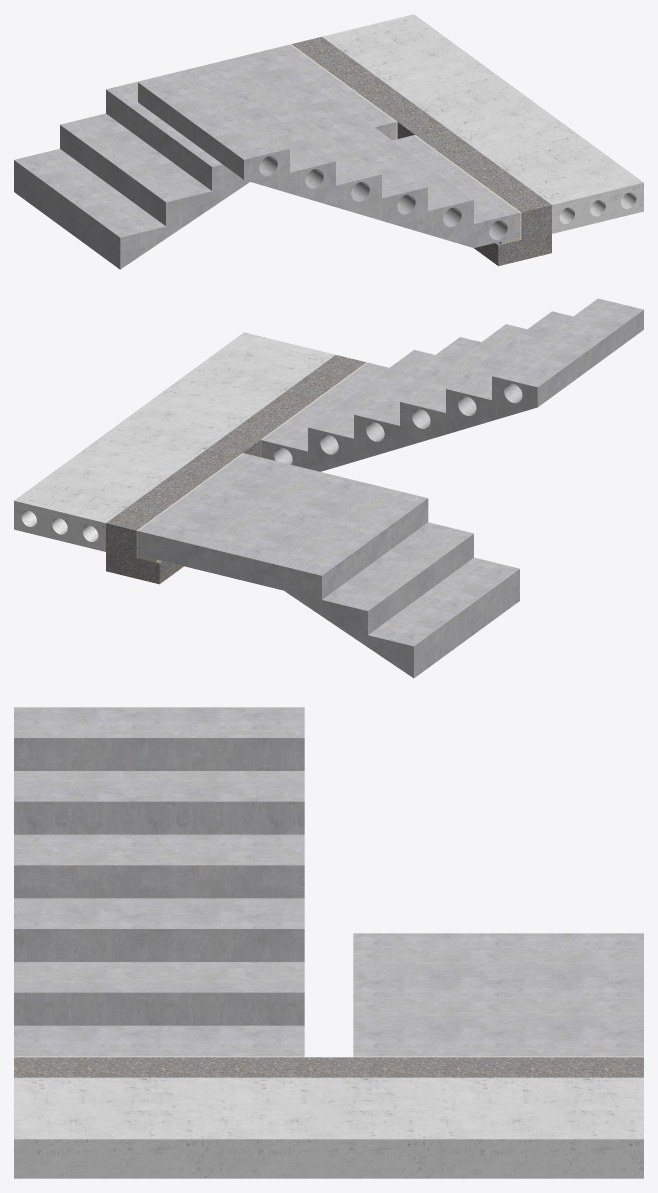
Rendered from stair-flight-offset-multiple-01.glb.
3 views of the same model, one above another, from view 1: azimuth 30°, elevation 25°; view 2: azimuth 150°, elevation 25°; view 3: azimuth 270°, elevation 25° (orthographic). The views are drawn at different scales.
Parts seen in each view (by area): view 1: 梯段, 平台板, 下平台梁-水平挑边L形梁, 无需标注; view 2: 梯段, 平台板, 下平台梁-水平挑边L形梁, 无需标注; view 3: 梯段, 平台板, 下平台梁-水平挑边L形梁, 无需标注.
Part boxes in pixels (x1=…): 梯段: x1=14, y1=44, x2=519, y2=269; 平台板: x1=322, y1=14, x2=643, y2=233; 下平台梁-水平挑边L形梁: x1=291, y1=36, x2=551, y2=266; 无需标注: x1=290, y1=44, x2=521, y2=244; 梯段: x1=138, y1=298, x2=643, y2=678; 平台板: x1=14, y1=332, x2=335, y2=551; 下平台梁-水平挑边L形梁: x1=106, y1=355, x2=365, y2=584; 无需标注: x1=136, y1=362, x2=367, y2=562; 梯段: x1=14, y1=707, x2=643, y2=1056; 平台板: x1=14, y1=1077, x2=643, y2=1178; 下平台梁-水平挑边L形梁: x1=14, y1=1057, x2=643, y2=1077; 无需标注: x1=14, y1=1056, x2=643, y2=1057.
Bounding box in the file's own units: 2.61 × 1.25 × 2.6.
5 materials, 3 textured.
